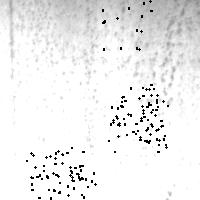pitted_surface: (1, 1, 195, 192), (108, 95, 167, 151), (111, 84, 165, 144), (25, 147, 83, 200), (102, 0, 151, 48), (39, 162, 94, 200)
